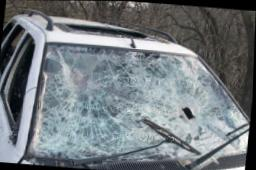Windshield: (32, 52, 250, 154)
